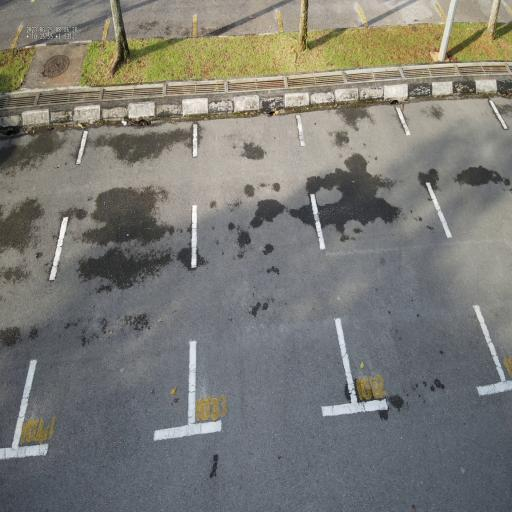Empty: (8, 109, 204, 464), (186, 104, 366, 443)
